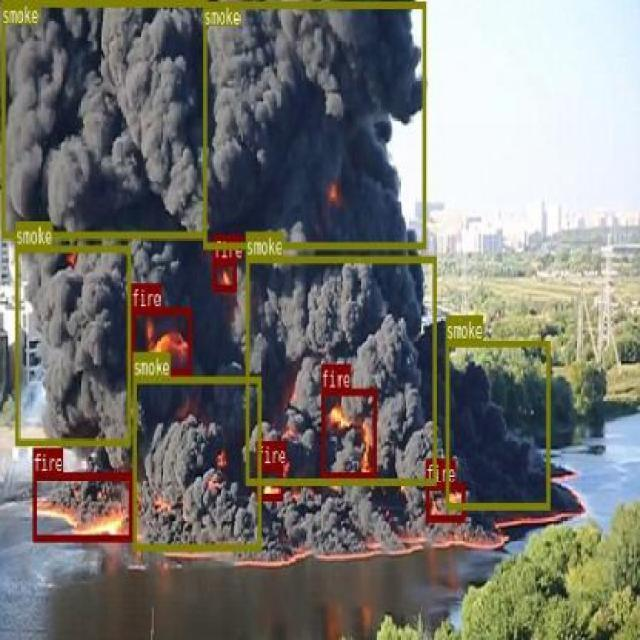Fire: (32, 472, 132, 540), (320, 388, 376, 478), (131, 308, 191, 374), (426, 482, 466, 521), (256, 464, 282, 498), (213, 258, 236, 291)
Smoke: (202, 0, 426, 248), (2, 0, 206, 237), (251, 265, 433, 478), (15, 244, 130, 446), (132, 374, 260, 548), (444, 340, 550, 508)
